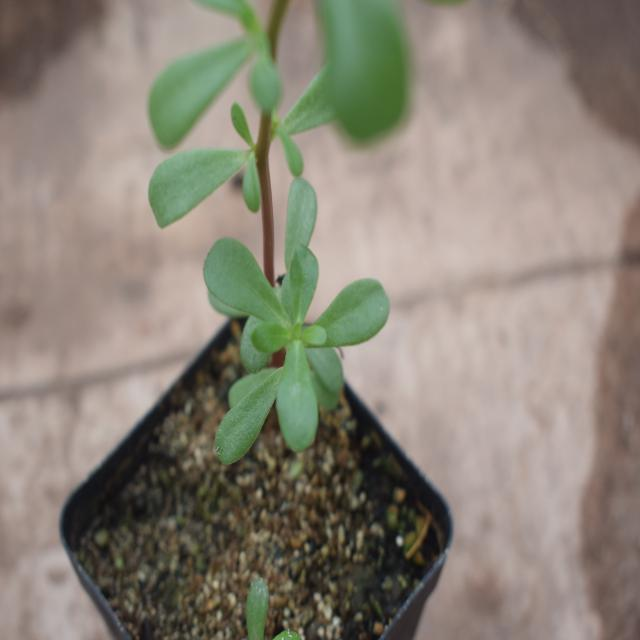purslane: (151, 31, 420, 452)
